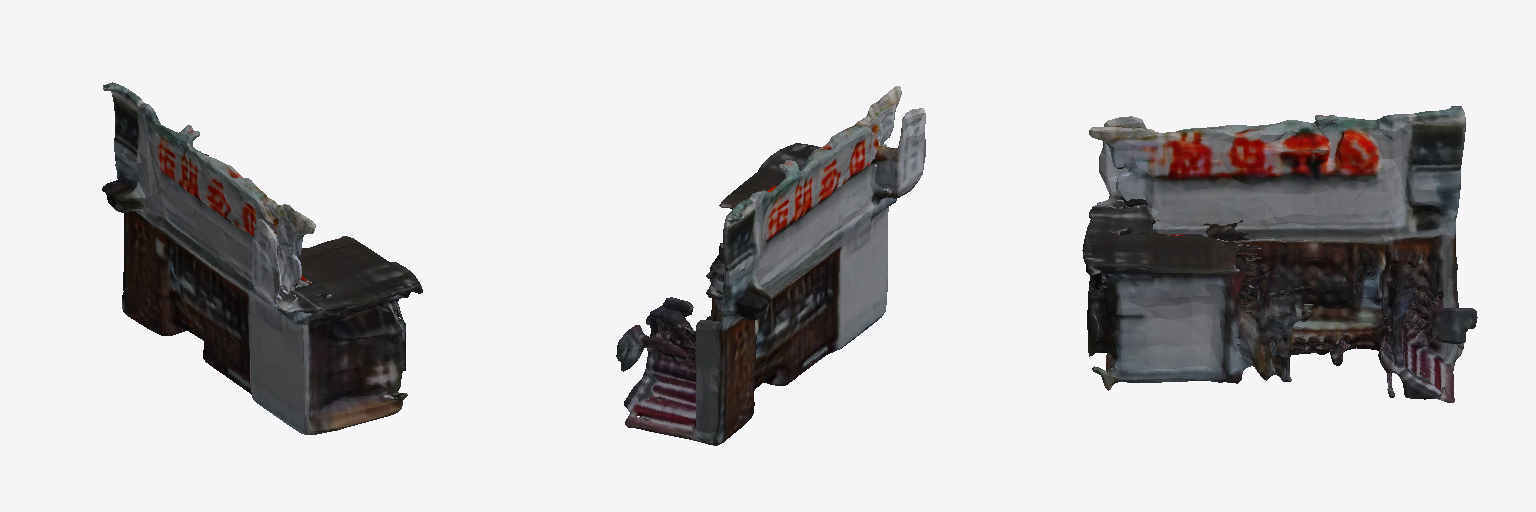
3 views of the same model, side by side, from view 1: azimuth 30°, elevation 25°; view 2: azimuth 150°, elevation 25°; view 3: azimuth 270°, elevation 25° (orthographic).
Parts seen in each view (by area): view 1: mesh; view 2: mesh; view 3: mesh.
Part boxes in pixels (bbox=[...]): mesh: bbox=[102, 82, 422, 434]; mesh: bbox=[616, 86, 925, 445]; mesh: bbox=[1082, 106, 1477, 402].
Bounding box in the file's own units: 0.4307 × 0.6769 × 1.
1 materials, 1 textured.